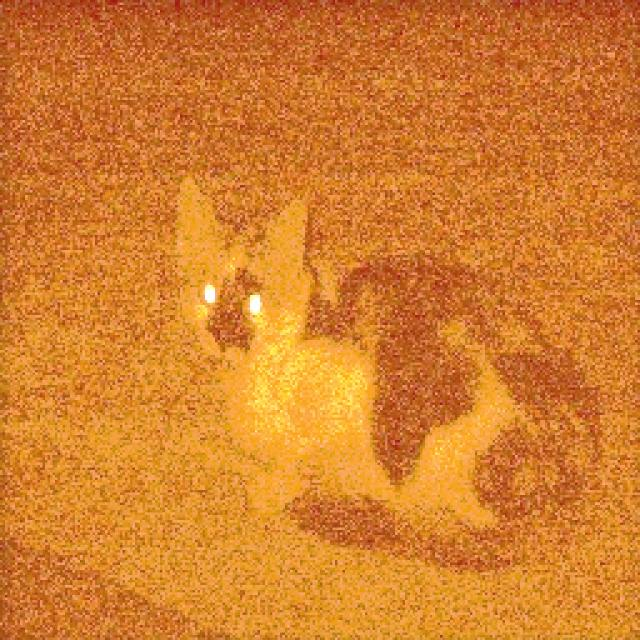cat: (154, 161, 604, 576)
